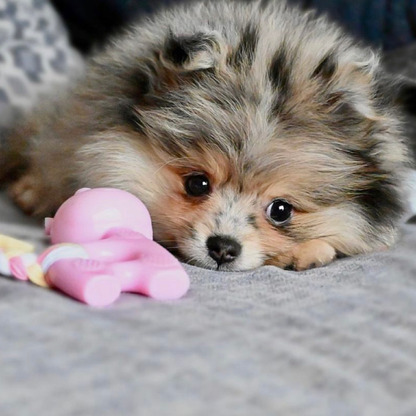Pomeranian: (48, 31, 400, 268)
